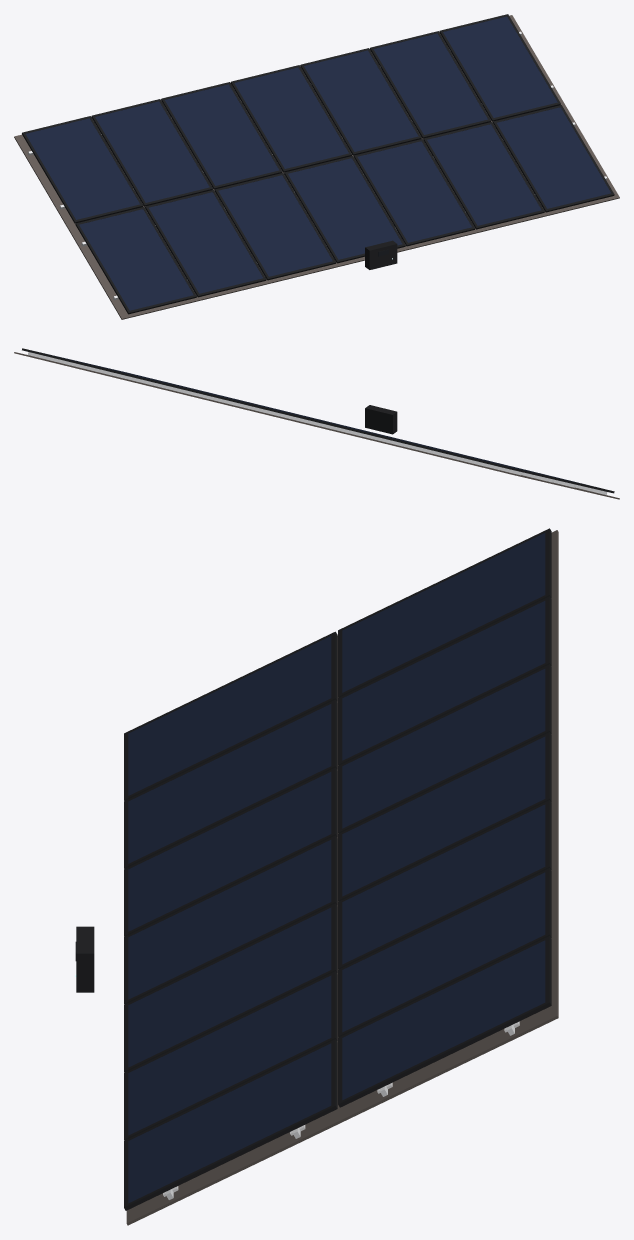
The picture shows the model from 3 angles, top to bottom: view 1: azimuth 30°, elevation 25°; view 2: azimuth 150°, elevation 25°; view 3: azimuth 270°, elevation 25°; orthographic projection. The views are drawn at different scales.
Visible parts, largest first — view 1: cell.6, cell.3, cell.1, cell.14, cell.8, cell.11, cell.5, cell.9, cell.12, cell.7, cell.10, cell.2 (+18 smaller); view 2: metal.4, roof.1, coat.100, coat.8; view 3: cell.5, cell.4, cell.10, cell.11, cell.6, cell.9, cell.13, cell.14, cell.1, cell.2, cell.3, cell.7 (+18 smaller).
Part boxes in pixels (bbox=[...]): cell.6: bbox=[427, 124, 541, 225]; cell.3: bbox=[218, 175, 332, 276]; cell.1: bbox=[79, 209, 193, 310]; cell.14: bbox=[443, 16, 557, 117]; cell.8: bbox=[25, 118, 139, 219]; cell.11: bbox=[234, 67, 348, 168]; cell.5: bbox=[357, 141, 471, 242]; cell.9: bbox=[95, 101, 209, 202]; cell.12: bbox=[304, 50, 418, 151]; cell.7: bbox=[497, 107, 610, 208]; cell.10: bbox=[165, 84, 278, 185]; cell.2: bbox=[149, 192, 262, 293]; metal.4: bbox=[27, 352, 521, 475]; roof.1: bbox=[14, 352, 619, 499]; coat.100: bbox=[365, 405, 397, 434]; coat.8: bbox=[439, 450, 560, 480]; cell.5: bbox=[128, 907, 331, 1067]; cell.4: bbox=[128, 840, 331, 999]; cell.10: bbox=[342, 669, 545, 828]; cell.11: bbox=[342, 736, 545, 896]; cell.6: bbox=[128, 975, 331, 1135]; cell.9: bbox=[342, 601, 545, 760]; cell.13: bbox=[342, 872, 545, 1032]; cell.14: bbox=[342, 940, 545, 1100]; cell.1: bbox=[128, 636, 331, 795]; cell.2: bbox=[128, 704, 331, 863]; cell.3: bbox=[128, 772, 331, 931]; cell.7: bbox=[128, 1043, 331, 1203].
Size of the model in its own units: 8.26 by 1.72 by 3.47.
